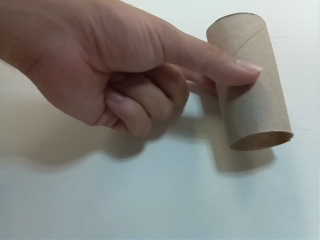rollo papel: (204, 11, 298, 153)
